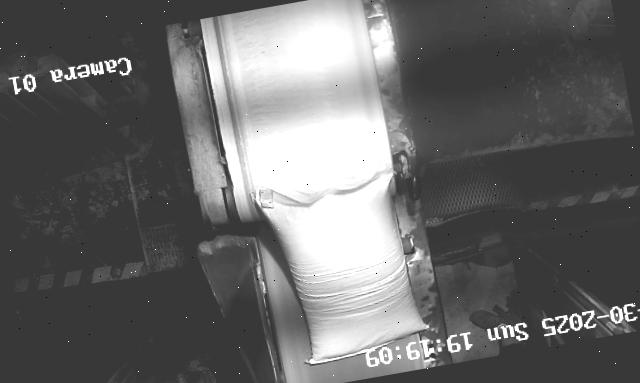bag: (248, 155, 430, 368)
